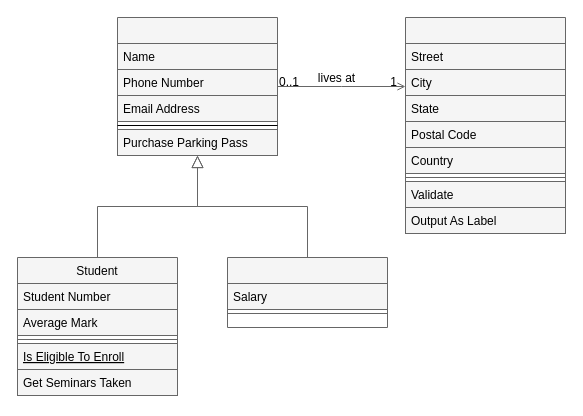
Some shapes in this 583 by 416 pixel diagram are drawn without their labels. Each missing label, with the box of its shape:
Address: (404, 16, 566, 234)
Person: (116, 16, 278, 156)
Professor: (226, 256, 388, 328)
